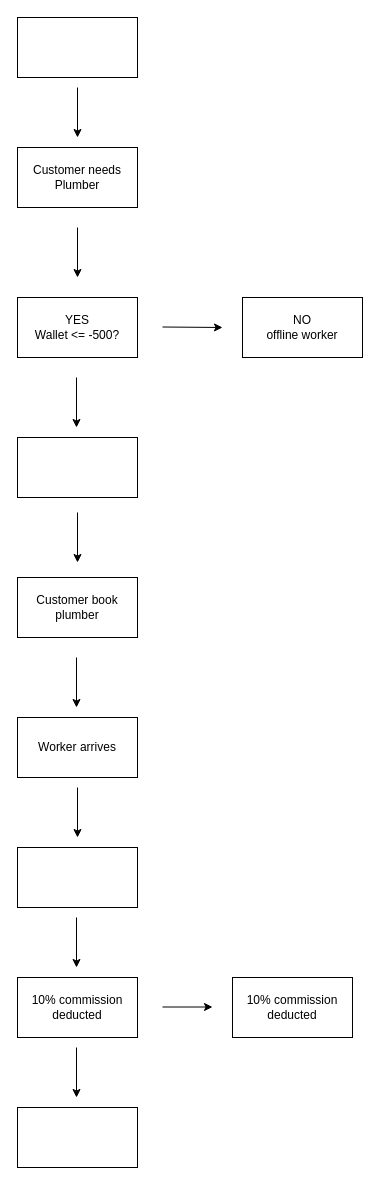
The diagram is 380 pixels wide and 1185 high, and some of its shapes have lost their labels. The centre of each missing label's shape, as x and y in pixels:
End: (77,1137)
Press "Arrived": (77,877)
Show worker: (77,467)
Start: (77,47)
